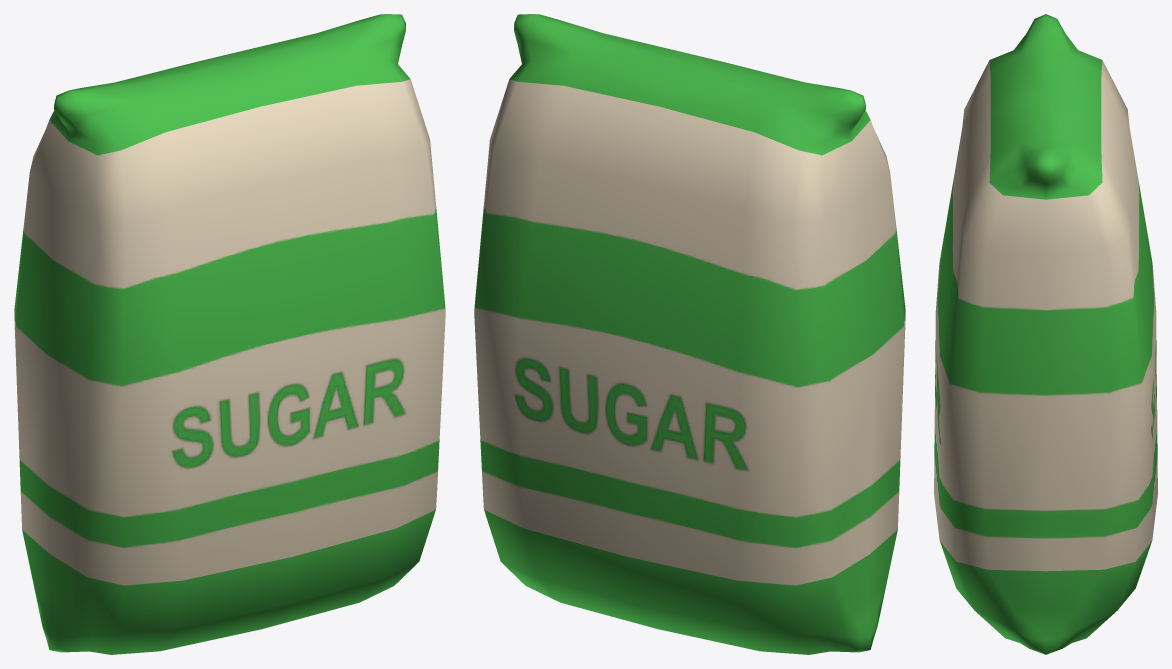
Rendered from Sugar.fbx.
The picture shows the model from 3 angles, left to right: view 1: azimuth 30°, elevation 25°; view 2: azimuth 150°, elevation 25°; view 3: azimuth 270°, elevation 25°; orthographic projection. The views are drawn at different scales.
Parts seen in each view (by area): view 1: BagOfStuff; view 2: BagOfStuff; view 3: BagOfStuff.
Part boxes in pixels (x1,y1,x2,y2): BagOfStuff: [14, 14, 445, 654]; BagOfStuff: [474, 14, 905, 654]; BagOfStuff: [934, 14, 1157, 654].
Bounding box in the file's own units: 0.6437 × 0.9479 × 0.3811.
